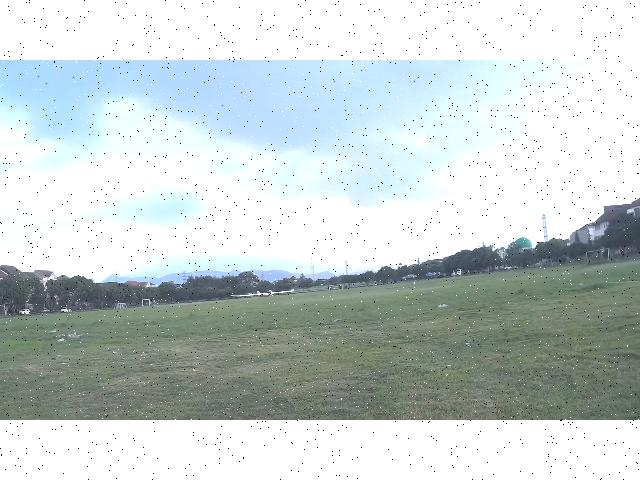Anti-Drone: (230, 290, 296, 298)
